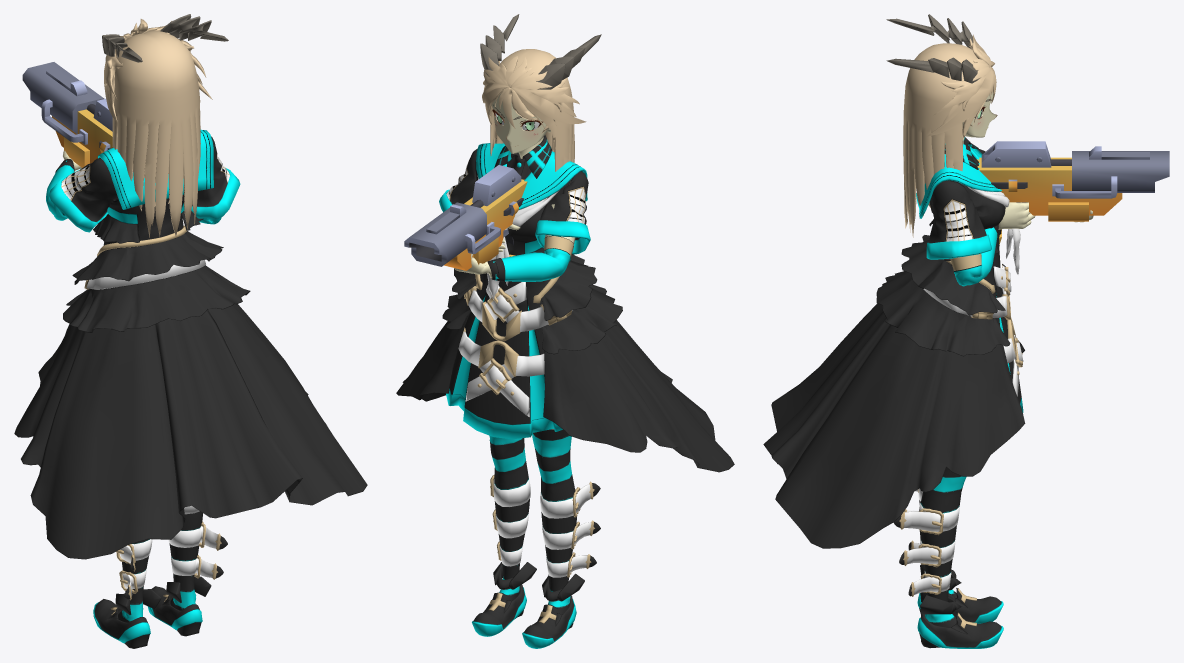
File: Pose_SMG.glb
3 renders of one model, left to right at view 1: azimuth 30°, elevation 25°; view 2: azimuth 150°, elevation 25°; view 3: azimuth 270°, elevation 25°, orthographic. The views are drawn at different scales.
Visible parts, largest first — view 1: Static_mantle, Static_hairBack, Static_frill, Reference_SMG_blaster-g, Static_cuffs, Static_belt, Static_shoes, Static_collar, Static_legs, Static_horn, Static_body, Static_hairFront (+2 smaller); view 2: Static_mantle, Static_belt, Static_body, Reference_SMG_blaster-g, Static_legs, Static_frill, Static_hairFront, Static_cuffs, Static_shoes, Static_collar, Static_armcover, Static_hairBack (+6 smaller); view 3: Static_mantle, Reference_SMG_blaster-g, Static_frill, Static_hairBack, Static_belt, Static_cuffs, Static_shoes, Static_legs, Static_hairFront, Static_horn, Static_body, Static_collar (+5 smaller).
Part boxes in pixels (left/top/right/bottom): Static_mantle: left=14, top=289, right=367, bottom=559; Static_hairBack: left=112, top=31, right=200, bottom=237; Static_frill: left=63, top=211, right=250, bottom=332; Reference_SMG_blaster-g: left=22, top=62, right=112, bottom=167; Static_cuffs: left=49, top=136, right=240, bottom=232; Static_belt: left=84, top=225, right=227, bottom=600; Static_shoes: left=93, top=586, right=202, bottom=648; Static_collar: left=98, top=129, right=213, bottom=209; Static_legs: left=118, top=511, right=202, bottom=622; Static_horn: left=102, top=14, right=228, bottom=62; Static_body: left=99, top=157, right=184, bottom=289; Static_hairFront: left=104, top=19, right=212, bottom=122; Static_mantle: left=396, top=308, right=734, bottom=472; Static_belt: left=458, top=274, right=600, bottom=577; Static_body: left=446, top=162, right=581, bottom=439; Reference_SMG_blaster-g: left=404, top=165, right=527, bottom=270; Static_legs: left=489, top=429, right=576, bottom=614; Static_frill: left=442, top=247, right=622, bottom=354; Static_hairFront: left=482, top=56, right=586, bottom=142; Static_cuffs: left=439, top=148, right=590, bottom=254; Static_shoes: left=472, top=584, right=576, bottom=648; Static_collar: left=476, top=143, right=587, bottom=209; Static_armcover: left=493, top=235, right=573, bottom=281; Static_hairBack: left=490, top=49, right=574, bottom=171; Static_mantle: left=763, top=303, right=1025, bottom=548; Reference_SMG_blaster-g: left=977, top=141, right=1169, bottom=244; Static_frill: left=876, top=219, right=1010, bottom=356; Static_hairBack: left=903, top=43, right=977, bottom=237; Static_belt: left=893, top=257, right=1023, bottom=596; Static_cuffs: left=926, top=148, right=991, bottom=259; Static_shoes: left=917, top=588, right=1003, bottom=648; Static_legs: left=919, top=467, right=966, bottom=627; Static_hairFront: left=926, top=34, right=996, bottom=140; Static_horn: left=886, top=14, right=978, bottom=83; Static_body: left=929, top=180, right=1023, bottom=412; Static_collar: left=916, top=145, right=1001, bottom=218.
Bounding box in the file's own units: 0.7691 × 1.47 × 0.9072.
6 materials, 5 textured.
